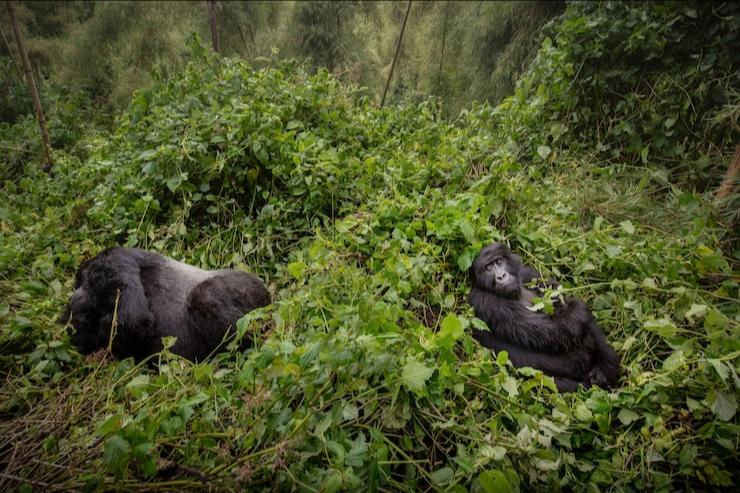goriile_montagne: (45, 236, 287, 376), (450, 243, 631, 392)
